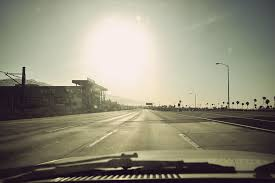strada: (1, 108, 275, 145)
